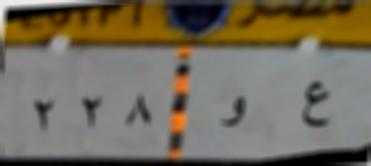2: (73, 88, 112, 142), (27, 89, 61, 142)
8: (120, 86, 159, 136)
ain: (294, 75, 336, 138)
waw: (209, 87, 258, 140)
